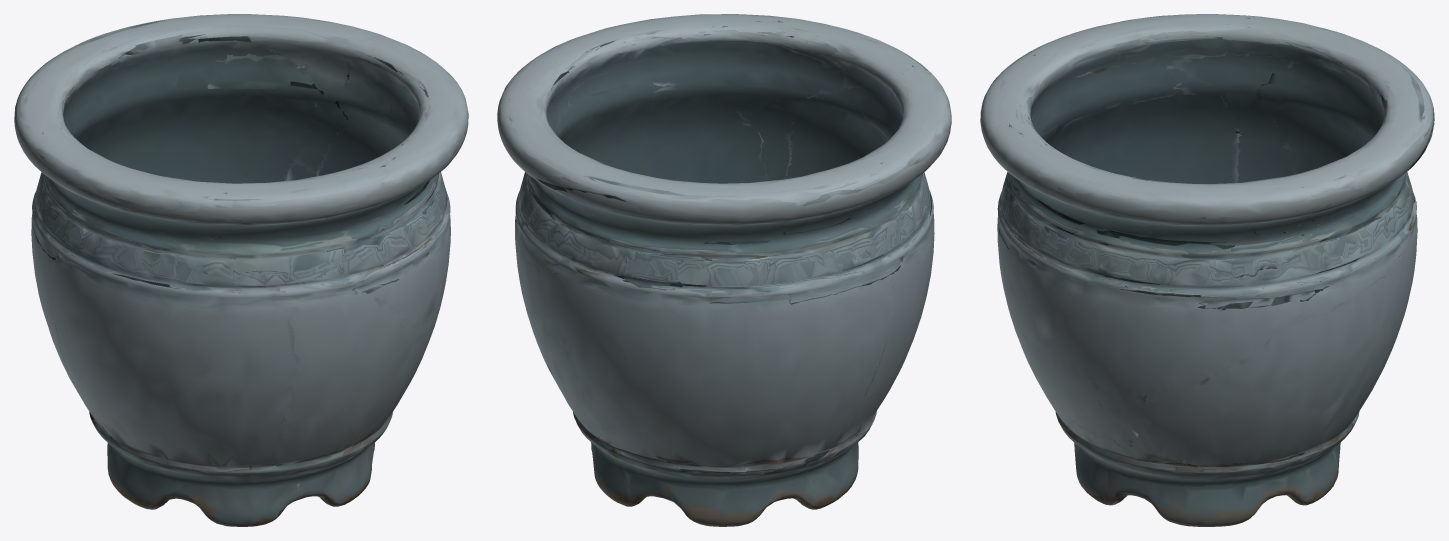
The model's file is flowerPot-compressed.glb.
3 renders of one model, left to right at view 1: azimuth 30°, elevation 25°; view 2: azimuth 150°, elevation 25°; view 3: azimuth 270°, elevation 25°, orthographic.
Parts seen in each view (by area): view 1: node_0; view 2: node_0; view 3: node_0.
Part boxes in pixels (<box>): node_0: <box>14,14,468,526</box>; node_0: <box>497,14,951,526</box>; node_0: <box>980,14,1434,526</box>.
Size of the model in its own units: 0.6696 by 0.6 by 0.6693.
Materials: 1 (1 with a texture image).
